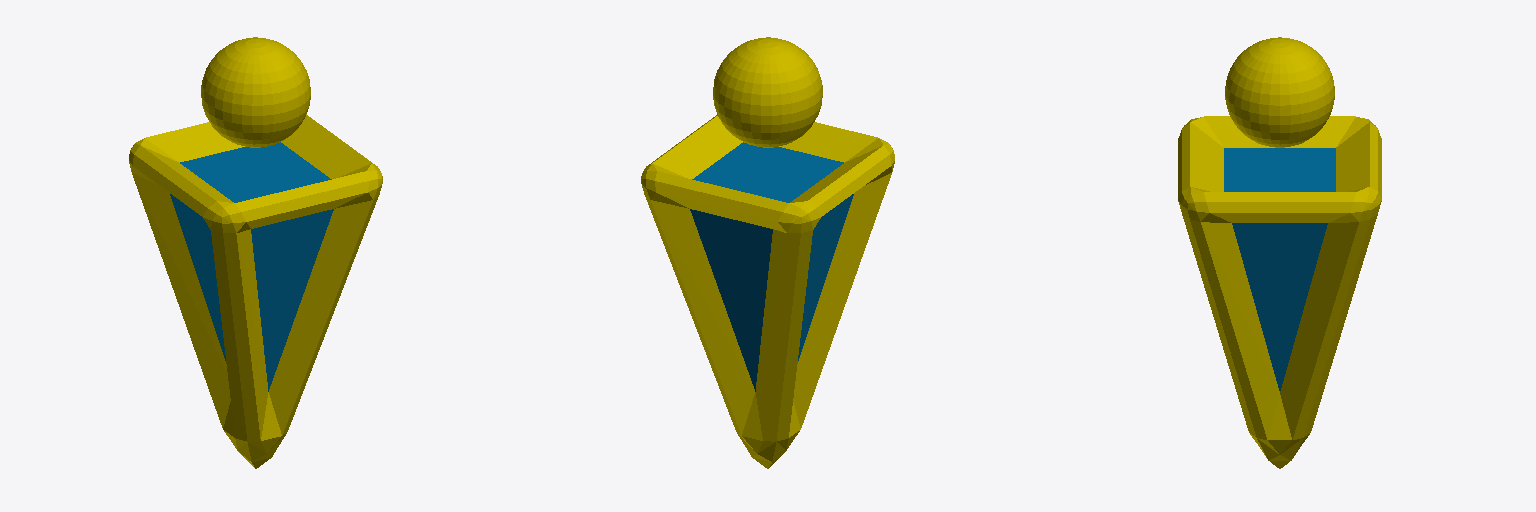
File: Cursor.obj
The picture shows the model from 3 angles: view 1: azimuth 30°, elevation 25°; view 2: azimuth 150°, elevation 25°; view 3: azimuth 270°, elevation 25°; orthographic projection.
Parts seen in each view (by area): view 1: Cursor; view 2: Cursor; view 3: Cursor.
Boxes of the visible parts, x1,y1,x2,y2 form: Cursor: [129, 37, 382, 468]; Cursor: [641, 37, 894, 468]; Cursor: [1178, 37, 1381, 468].
Size of the model in its own units: 0.9246 by 2.13 by 0.9246.